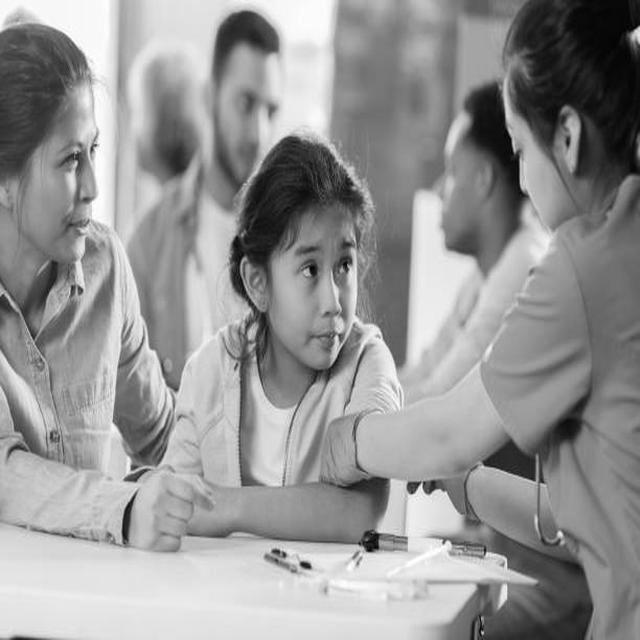Fear: (279, 200, 358, 370)
